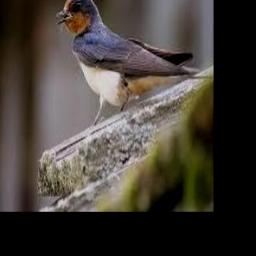Swallow: (55, 0, 199, 125)
